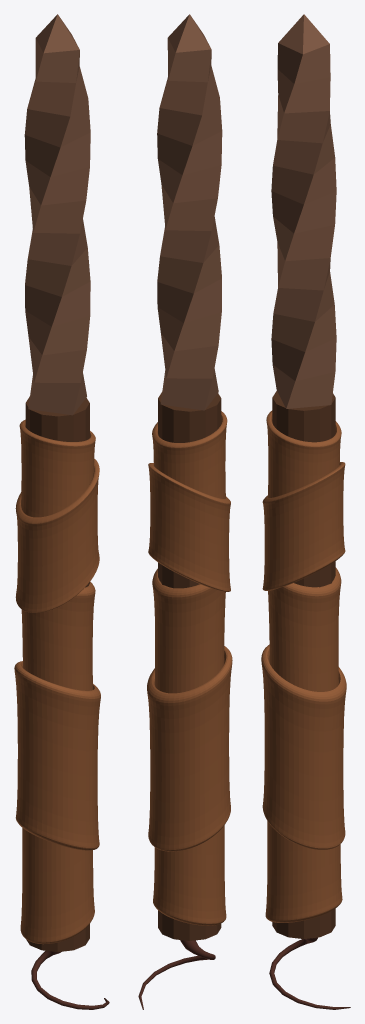
The model's file is Wand 359.glb.
The picture shows the model from 3 angles, left to right: view 1: azimuth 30°, elevation 25°; view 2: azimuth 210°, elevation 25°; view 3: azimuth 330°, elevation 25°; orthographic projection.
Visible parts, largest first — view 1: GeneratedWand; view 2: GeneratedWand; view 3: GeneratedWand.
Part boxes in pixels (x1,y1,x2,y2): GeneratedWand: [14, 14, 109, 1009]; GeneratedWand: [138, 14, 232, 1009]; GeneratedWand: [261, 14, 350, 1009].
Size of the model in its own units: 0.0462 by 0.5179 by 0.0408.
